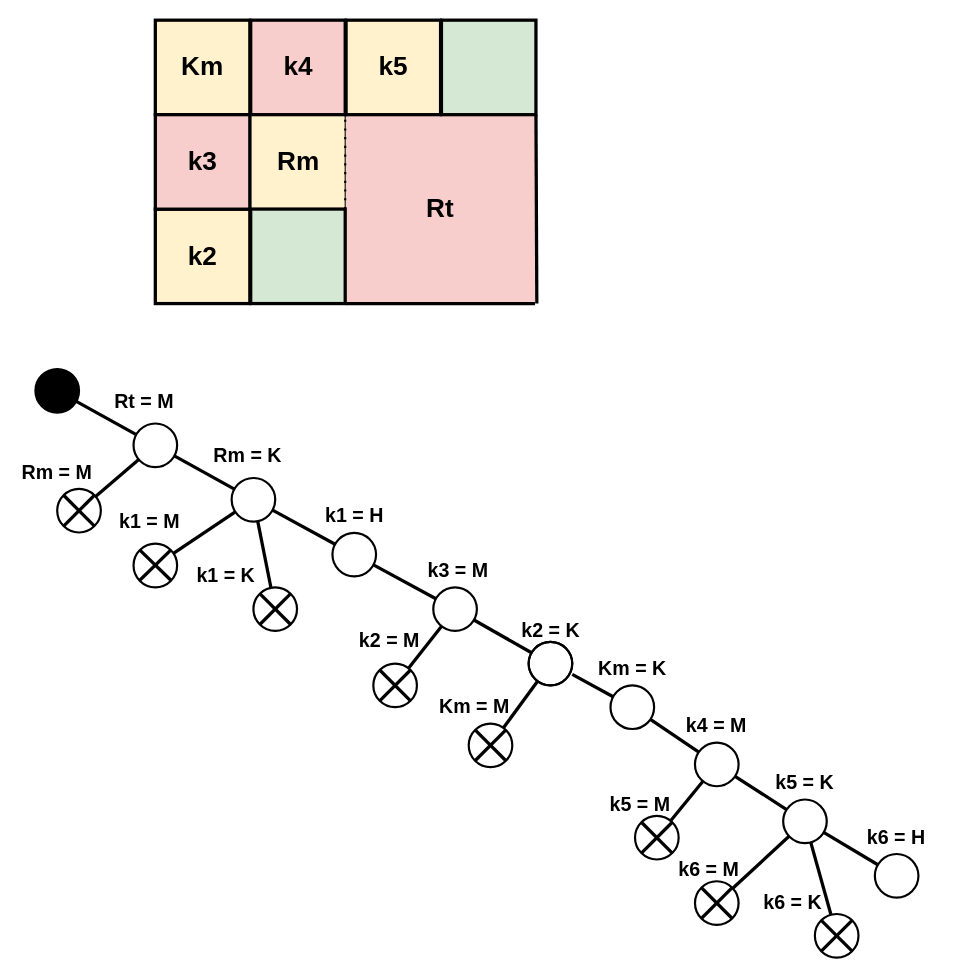
Image size: 954x978. Some labels were removed from this diagram. Here are the shapes that lost their labels. From the top down, the box of each, then its label:
(439, 18, 537, 116): k6
(249, 207, 346, 305): k1
